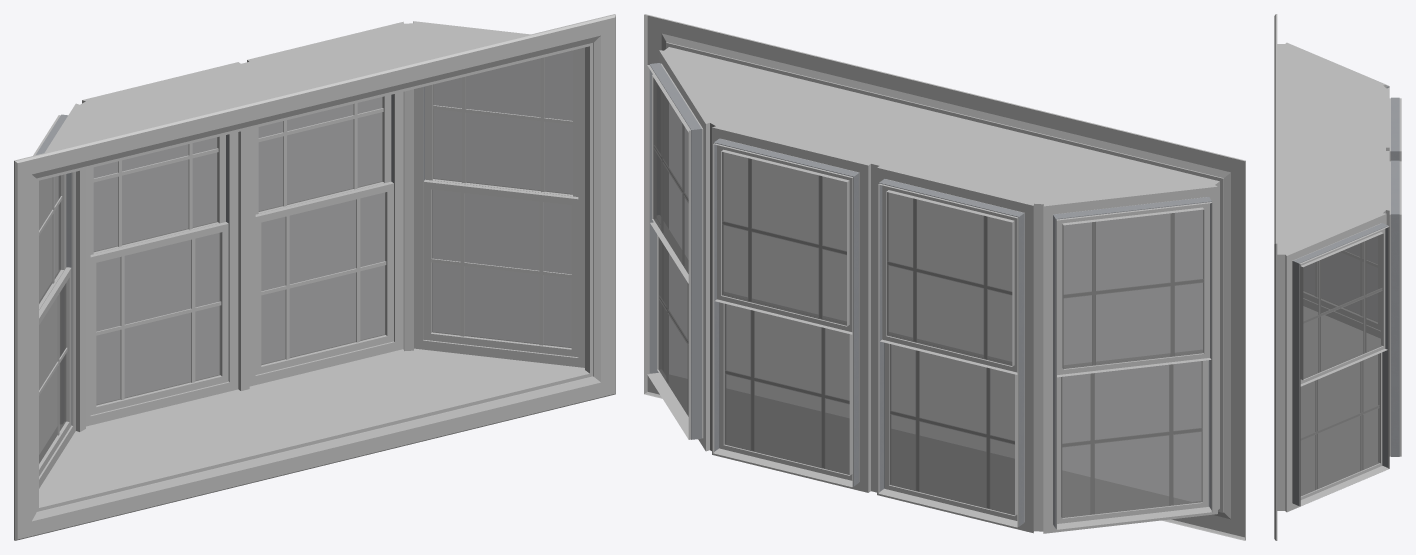
Rendered from window01.dae.
3 renders of one model, left to right at view 1: azimuth 30°, elevation 25°; view 2: azimuth 150°, elevation 25°; view 3: azimuth 270°, elevation 25°, orthographic. The views are drawn at different scales.
Parts seen in each view (by area): view 1: group_8, group_9, instance_0 (×2), instance_5 (×2), instance_2 (×2), instance_1 (×3), instance_3 (×3), instance_4 (×3), SketchUp (×3), instance_7 (×2), instance_6 (×2), group_6; view 2: group_8, group_9, instance_6 (×3), instance_4 (×3), instance_3 (×3), instance_7 (×2), instance_2 (×2), instance_5 (×2), instance_1 (×3), group_0, instance_0 (×2), SketchUp (×3) (+7 smaller); view 3: group_8, instance_1 (×3), instance_0 (×2), instance_7 (×2), group_0, group_3, group_9, SketchUp (×2), group_1, group_2, group_4, group_5.
Part boxes in pixels (x1=…): group_8: x1=39, y1=21, x2=589, y2=507; group_9: x1=14, y1=14, x2=615, y2=540; instance_0 (×2): x1=423, y1=179, x2=578, y2=357; instance_5 (×2): x1=90, y1=222, x2=228, y2=415; instance_2 (×2): x1=255, y1=181, x2=393, y2=374; instance_1 (×3): x1=425, y1=49, x2=578, y2=196; instance_3 (×3): x1=255, y1=95, x2=391, y2=214; instance_4 (×3): x1=90, y1=135, x2=225, y2=254; SketchUp (×3): x1=96, y1=193, x2=571, y2=399; instance_7 (×2): x1=39, y1=267, x2=71, y2=476; instance_6 (×2): x1=39, y1=174, x2=66, y2=309; group_6: x1=36, y1=114, x2=71, y2=424; group_8: x1=647, y1=47, x2=1219, y2=533; group_9: x1=644, y1=14, x2=1245, y2=540; instance_6 (×3): x1=1057, y1=203, x2=1211, y2=377; instance_4 (×3): x1=880, y1=185, x2=1017, y2=374; instance_3 (×3): x1=715, y1=145, x2=852, y2=334; instance_7 (×2): x1=1057, y1=350, x2=1208, y2=523; instance_2 (×2): x1=719, y1=292, x2=852, y2=480; instance_5 (×2): x1=885, y1=332, x2=1017, y2=520; instance_1 (×3): x1=650, y1=74, x2=688, y2=283; group_0: x1=649, y1=63, x2=701, y2=439; instance_0 (×2): x1=657, y1=215, x2=688, y2=418; SketchUp (×3): x1=725, y1=310, x2=1201, y2=513; group_8: x1=1277, y1=42, x2=1390, y2=512; instance_1 (×3): x1=1300, y1=229, x2=1387, y2=386; instance_0 (×2): x1=1300, y1=343, x2=1382, y2=499; instance_7 (×2): x1=1303, y1=235, x2=1380, y2=329; group_0: x1=1292, y1=223, x2=1388, y2=505; group_3: x1=1391, y1=160, x2=1399, y2=456; group_9: x1=1274, y1=14, x2=1277, y2=540; SketchUp (×2): x1=1301, y1=242, x2=1378, y2=489; group_1: x1=1299, y1=226, x2=1389, y2=506; group_2: x1=1399, y1=161, x2=1401, y2=456; group_4: x1=1391, y1=97, x2=1399, y2=160; group_5: x1=1399, y1=98, x2=1401, y2=161.
Size of the model in its own units: 138 by 32.35 by 83.5.
